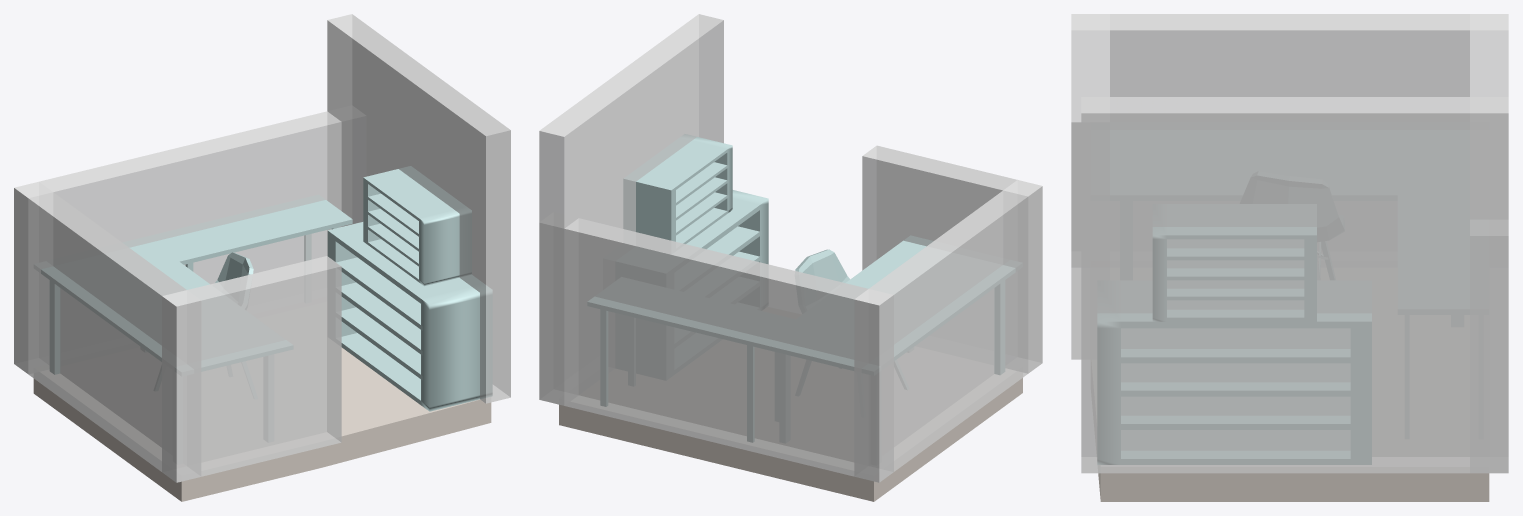
The model's file is cubicle.glb.
The picture shows the model from 3 angles, left to right: view 1: azimuth 30°, elevation 25°; view 2: azimuth 150°, elevation 25°; view 3: azimuth 270°, elevation 25°; orthographic projection. The views are drawn at different scales.
Parts seen in each view (by area): view 1: wall_BF22B0A5_DA8E_424B_B41B_31956B597A91, wall_F7F43A44_B93B_4FD5_B2BD_A4C767BF8FE8, wall_0B6BCBF1_42FD_4AE3_9D0F_033F026F2269, wall_002E7121_12AE_4A81_8BF1_D13A02A34D12, Interiors.002, floor_1A97D73C_20A6_4582_A52D_A107B0E35D98, Interiors, Interiors.003, Interiors.001, Interiors.004; view 2: wall_F7F43A44_B93B_4FD5_B2BD_A4C767BF8FE8, wall_BF22B0A5_DA8E_424B_B41B_31956B597A91, wall_002E7121_12AE_4A81_8BF1_D13A02A34D12, wall_0B6BCBF1_42FD_4AE3_9D0F_033F026F2269, Interiors, floor_1A97D73C_20A6_4582_A52D_A107B0E35D98, Interiors.001, Interiors.003, Interiors.002, Interiors.004; view 3: wall_002E7121_12AE_4A81_8BF1_D13A02A34D12, wall_BF22B0A5_DA8E_424B_B41B_31956B597A91, Interiors.002, wall_F7F43A44_B93B_4FD5_B2BD_A4C767BF8FE8, Interiors, floor_1A97D73C_20A6_4582_A52D_A107B0E35D98, wall_0B6BCBF1_42FD_4AE3_9D0F_033F026F2269.
Part boxes in pixels (box(x1,y1,x2,y2)): wall_BF22B0A5_DA8E_424B_B41B_31956B597A91: box(14, 182, 201, 482); wall_F7F43A44_B93B_4FD5_B2BD_A4C767BF8FE8: box(14, 105, 366, 373); wall_0B6BCBF1_42FD_4AE3_9D0F_033F026F2269: box(162, 256, 341, 482); wall_002E7121_12AE_4A81_8BF1_D13A02A34D12: box(327, 14, 510, 403); Interiors.002: box(327, 222, 492, 411); floor_1A97D73C_20A6_4582_A52D_A107B0E35D98: box(33, 347, 491, 501); Interiors: box(363, 166, 471, 286); Interiors.003: box(144, 195, 352, 271); Interiors.001: box(41, 237, 293, 374); Interiors.004: box(215, 252, 253, 283); wall_F7F43A44_B93B_4FD5_B2BD_A4C767BF8FE8: box(539, 212, 893, 482); wall_BF22B0A5_DA8E_424B_B41B_31956B597A91: box(854, 180, 1042, 482); wall_002E7121_12AE_4A81_8BF1_D13A02A34D12: box(539, 14, 723, 405); wall_0B6BCBF1_42FD_4AE3_9D0F_033F026F2269: box(862, 145, 1042, 373); Interiors: box(623, 134, 732, 244); floor_1A97D73C_20A6_4582_A52D_A107B0E35D98: box(559, 377, 1022, 501); Interiors.001: box(762, 235, 1015, 374); Interiors.003: box(587, 296, 770, 442); Interiors.002: box(686, 190, 768, 264); Interiors.004: box(795, 249, 849, 282); wall_002E7121_12AE_4A81_8BF1_D13A02A34D12: box(1081, 97, 1508, 473); wall_BF22B0A5_DA8E_424B_B41B_31956B597A91: box(1071, 14, 1508, 267); Interiors.002: box(1097, 313, 1371, 464); wall_F7F43A44_B93B_4FD5_B2BD_A4C767BF8FE8: box(1470, 14, 1508, 472); Interiors: box(1153, 227, 1316, 321); floor_1A97D73C_20A6_4582_A52D_A107B0E35D98: box(1098, 473, 1489, 501); wall_0B6BCBF1_42FD_4AE3_9D0F_033F026F2269: box(1071, 14, 1109, 359).
Bounding box in the file's own units: 2.71 × 2.26 × 2.26.
